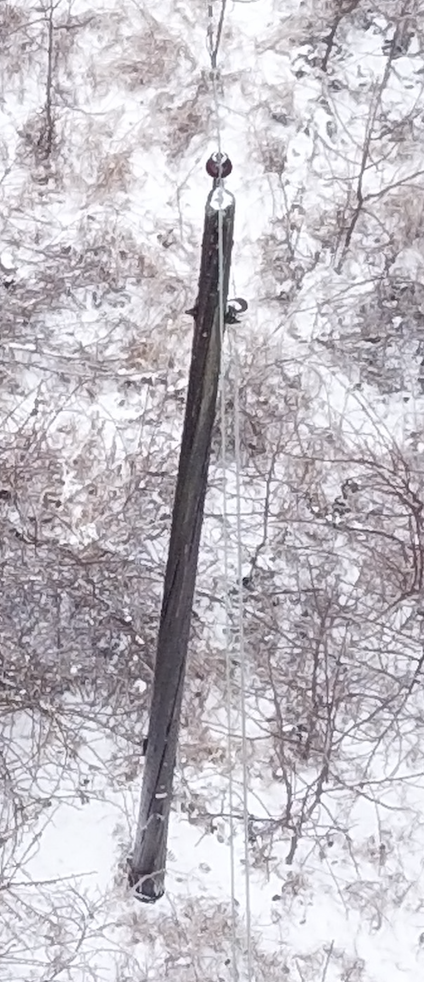pole: (72, 116, 312, 926)
